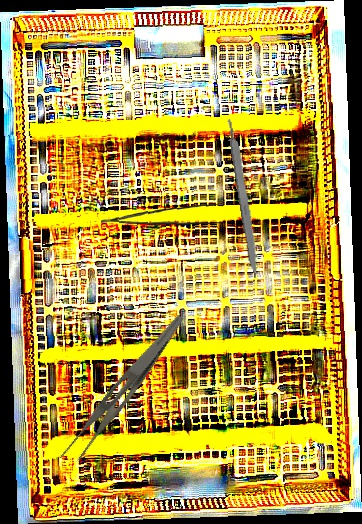Dressing Forceps: (56, 302, 186, 473)
Scalpel Handle: (225, 116, 263, 279)
Tissue Forceps: (100, 199, 225, 228)
